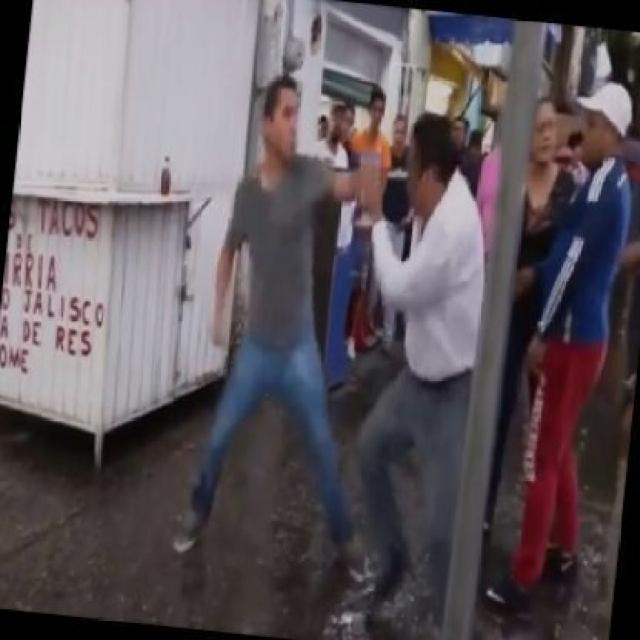fight: (174, 78, 490, 600)
non-fight: (498, 58, 638, 637)
